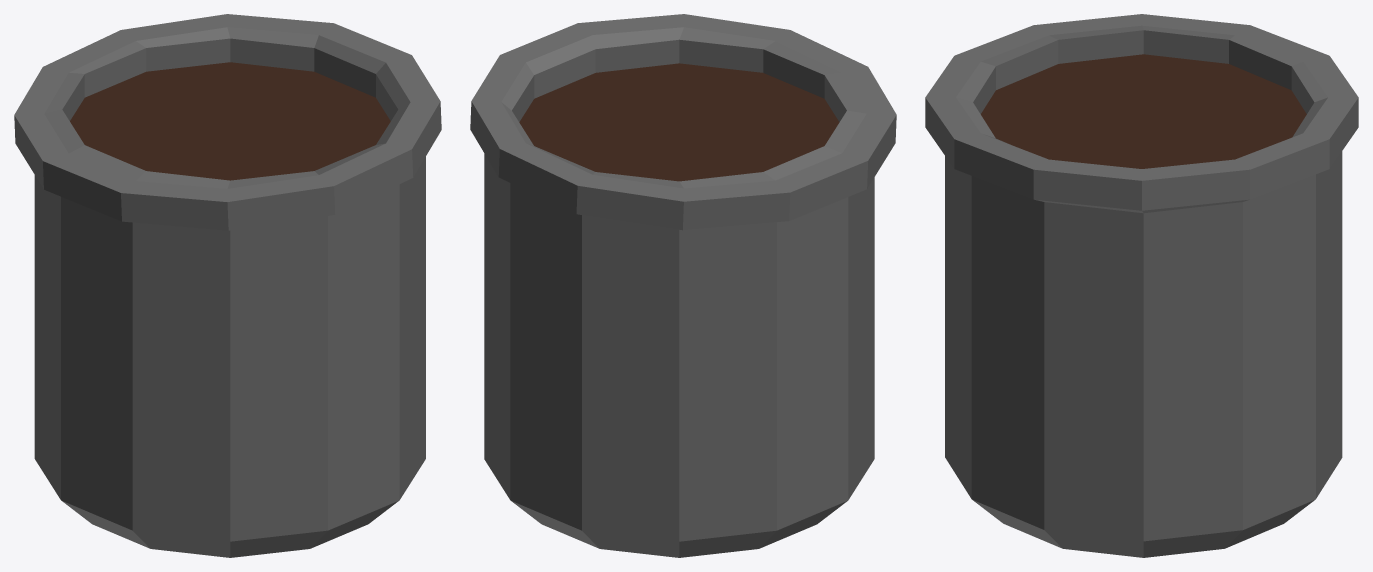
File: Pot.fbx
3 renders of one model, left to right at view 1: azimuth 30°, elevation 25°; view 2: azimuth 150°, elevation 25°; view 3: azimuth 270°, elevation 25°, orthographic.
Visible parts, largest first — view 1: Cylinder; view 2: Cylinder; view 3: Cylinder.
Part boxes in pixels (x1=…): Cylinder: x1=14, y1=14, x2=441, y2=557; Cylinder: x1=470, y1=14, x2=896, y2=557; Cylinder: x1=925, y1=14, x2=1358, y2=557.
Size of the model in its own units: 21.86 by 22.11 by 21.81.
